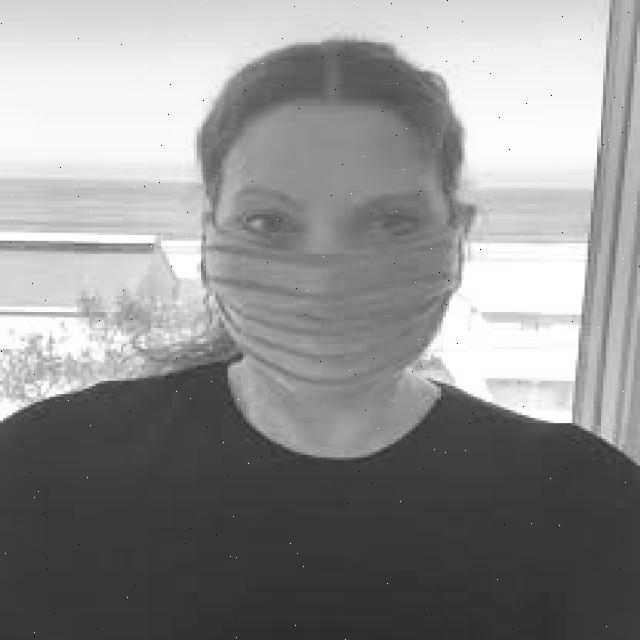fake: (194, 217, 466, 401)
real: (212, 103, 443, 411)
